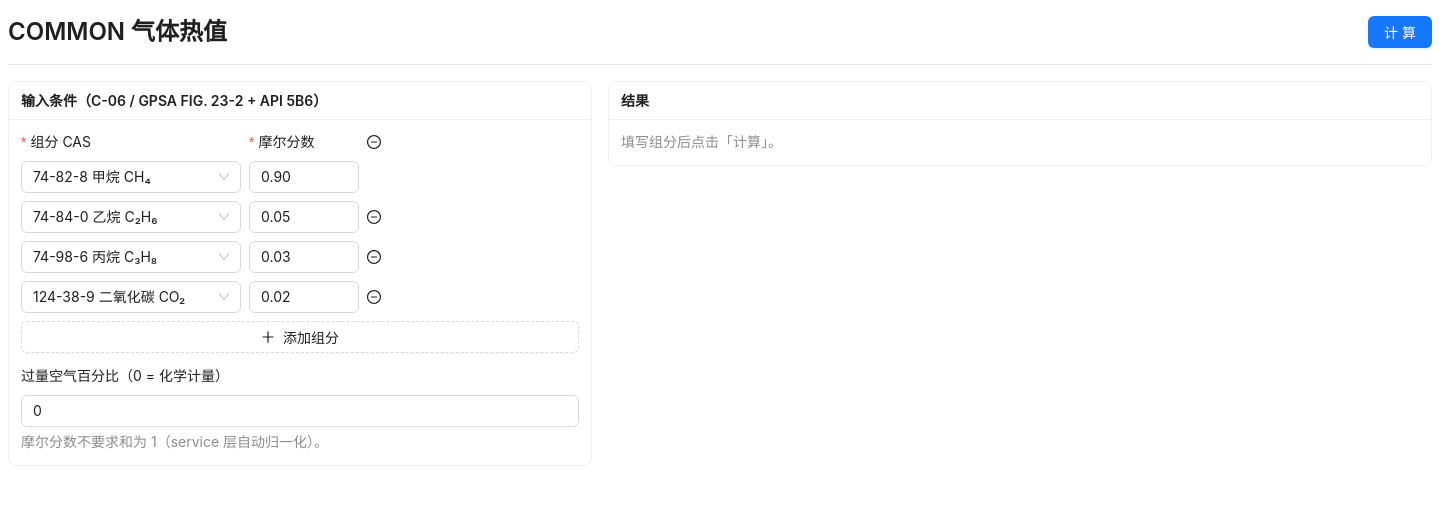
Scenario: HeatingValuePage — 渲染 (P6-5 前端补课) › 添加 / 删除组分行
This screenshot has width=1440, height=523.
Click the button with test id "heating-value-add".
click(300, 337)  # box [21, 321, 579, 353]
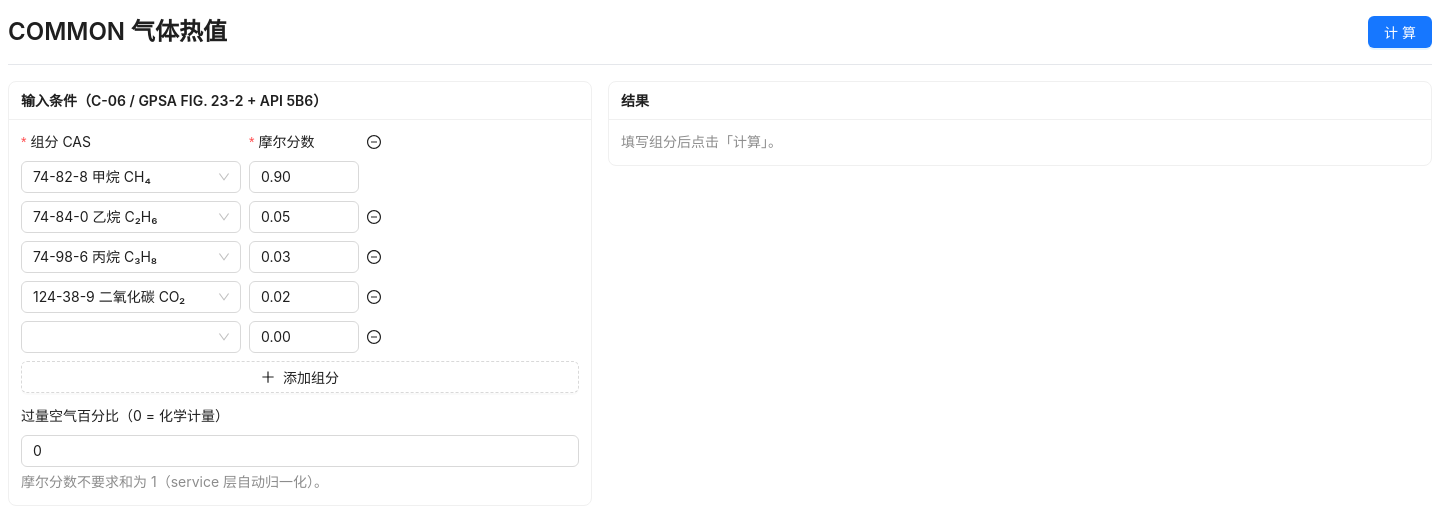
Now the element with test id "heating-value-cas-4" is shown, box [21, 321, 241, 353]
Click the picture with test id "heating-value-remove-4".
click(374, 337)  # box [367, 330, 381, 344]
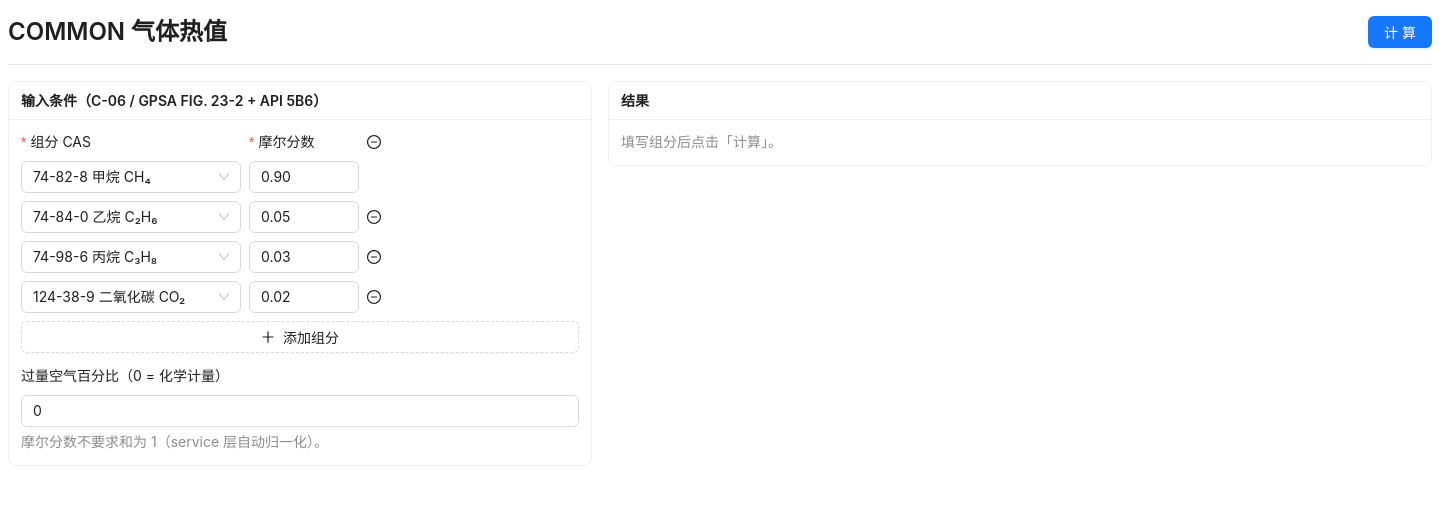
Now the element with test id "heating-value-cas-4" is gone
